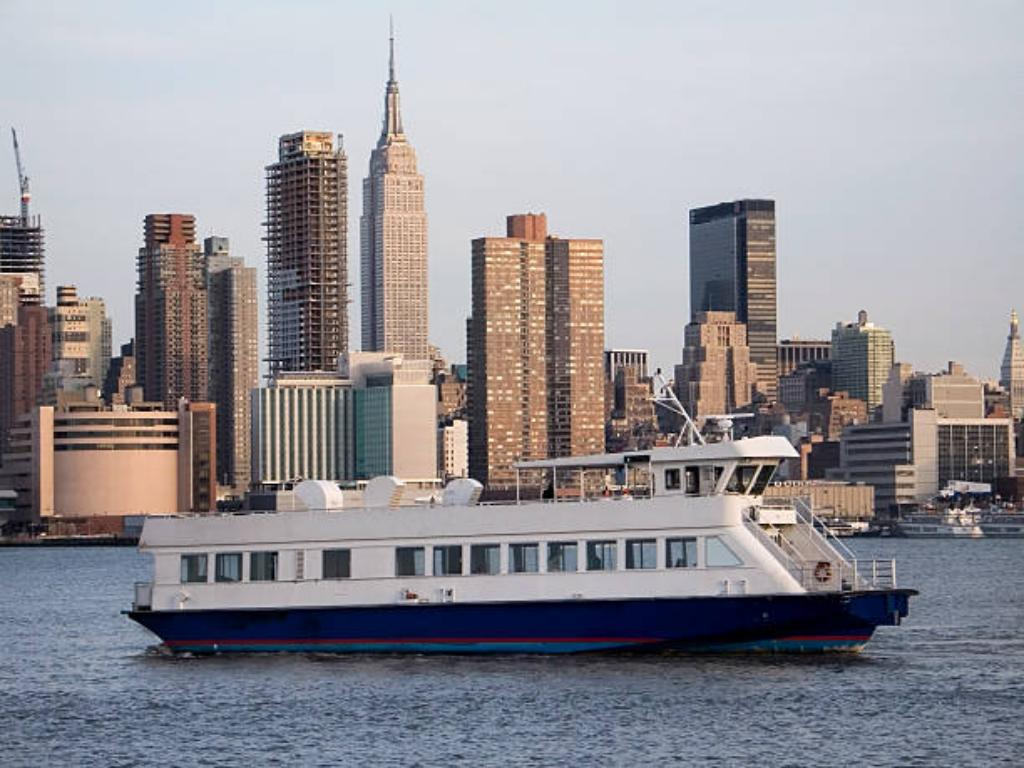PassengerShip: (118, 382, 936, 662)
